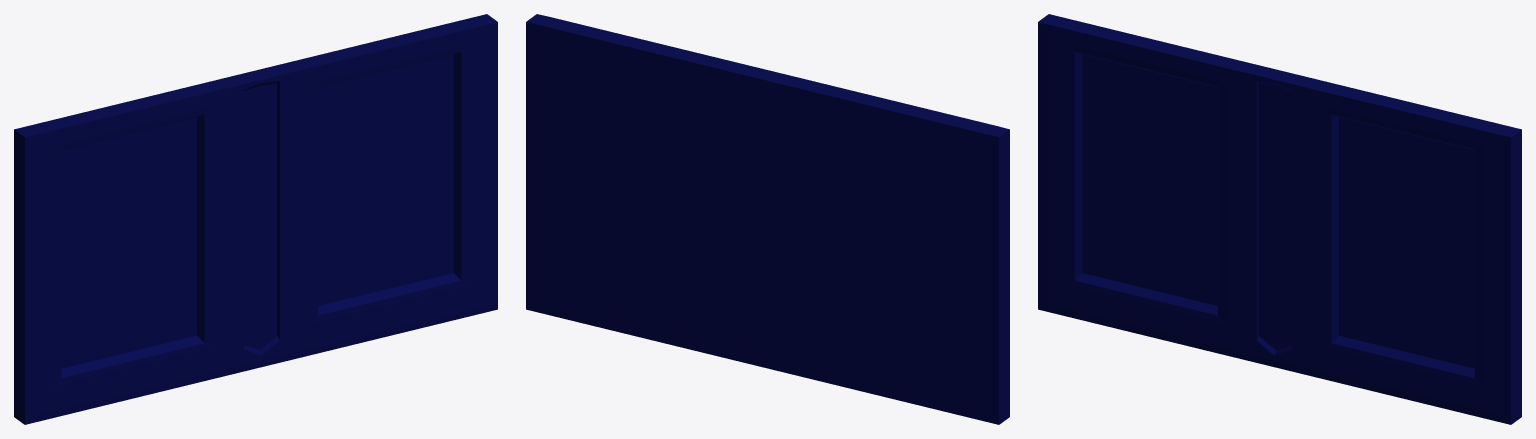
Rendered from door_forBest.fbx.
3 views of the same model, side by side, from view 1: azimuth 30°, elevation 25°; view 2: azimuth 150°, elevation 25°; view 3: azimuth 330°, elevation 25° (orthographic).
Visible parts, largest first — view 1: Door; view 2: Door; view 3: Door.
Boxes of the visible parts, x1,y1,x2,y2 form: Door: (14,14,497,424); Door: (526,14,1009,424); Door: (1038,14,1521,424).
Bounding box in the file's own units: 7400 × 4300 × 300.
